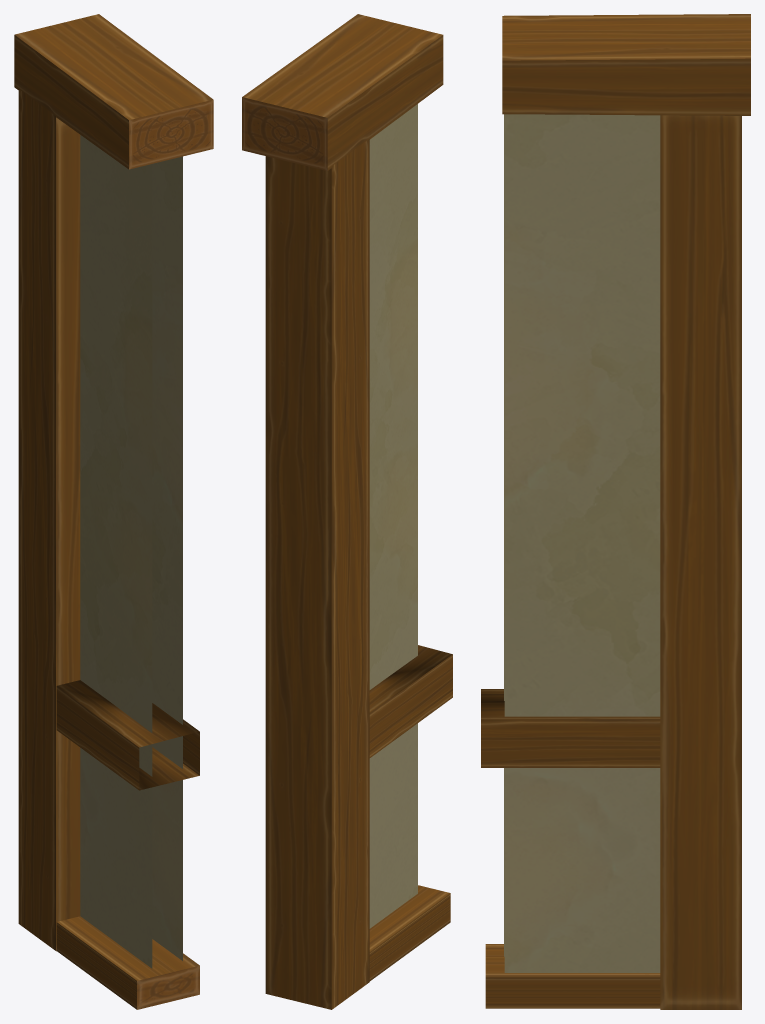
The model's file is SM_House_Corner_02_SIde.fbx.
3 views of the same model, side by side, from view 1: azimuth 30°, elevation 25°; view 2: azimuth 150°, elevation 25°; view 3: azimuth 270°, elevation 25° (orthographic). The views are drawn at different scales.
Visible parts, largest first — view 1: SM_House_Corner_02_SIde; view 2: SM_House_Corner_02_SIde; view 3: SM_House_Corner_02_SIde.
Part boxes in pixels (left/top/right/bottom): SM_House_Corner_02_SIde: left=14, top=14, right=213, bottom=1009; SM_House_Corner_02_SIde: left=242, top=14, right=452, bottom=1009; SM_House_Corner_02_SIde: left=481, top=14, right=750, bottom=1009.
Size of the model in its own units: 0.4004 by 4.01 by 1.02.
